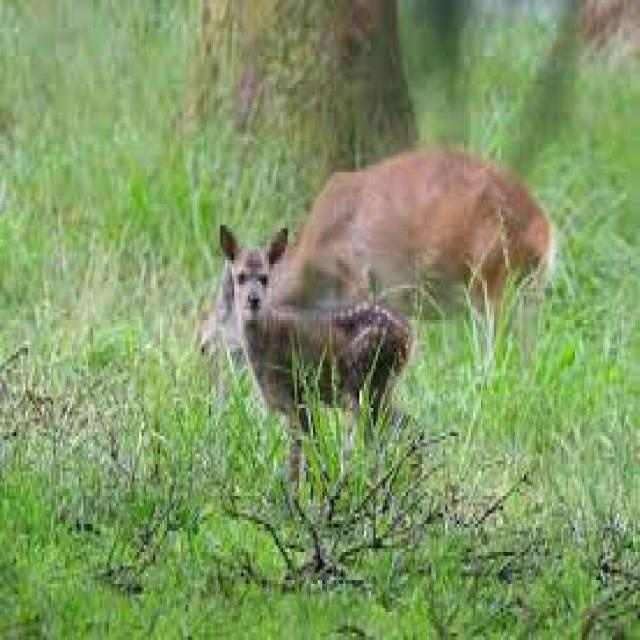deer: (212, 209, 430, 491)
